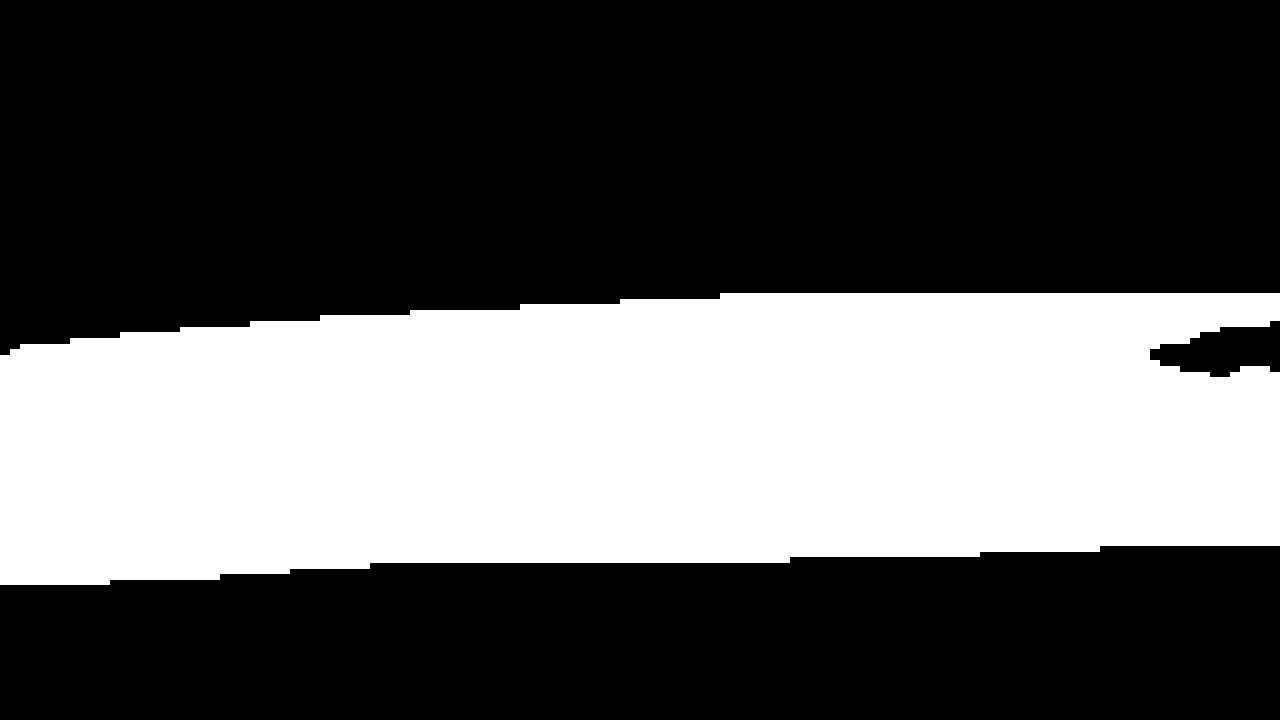Turbine: (12, 270, 1272, 604)
